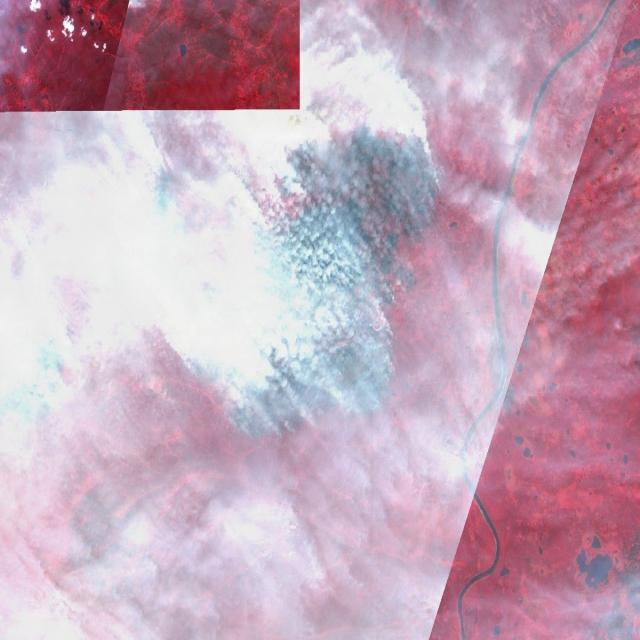fire: (194, 108, 452, 440)
